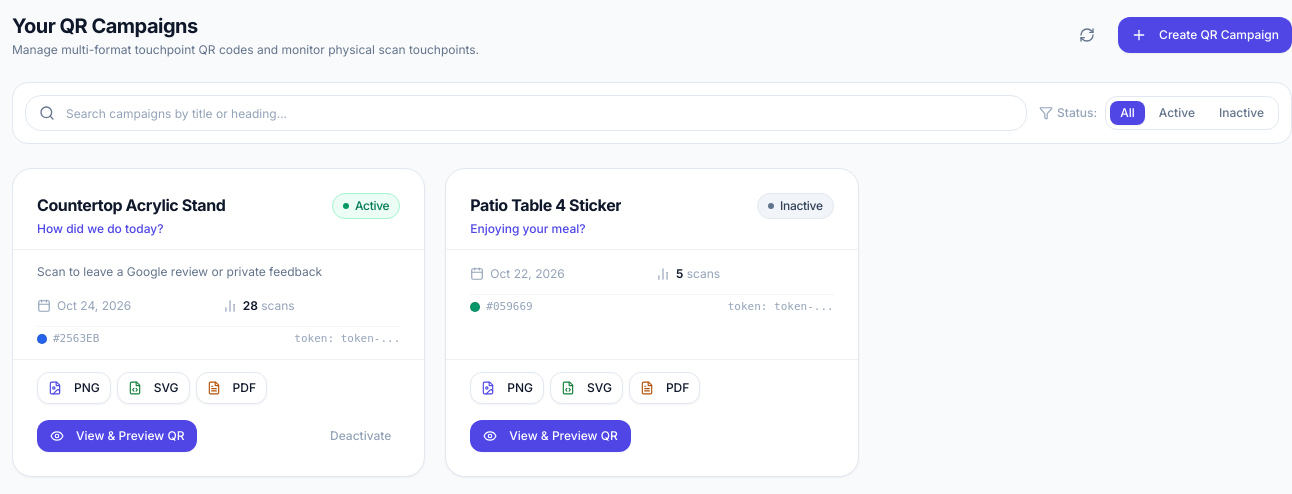
Test: CampaignList Component › should filter campaigns by search query
Expected: the heading "Countertop Acrylic Stand" is shown, x1=37 y1=193 x2=226 y2=217
Type "Patio" into the search field labelled "Search campaigns by title or heading..." at (526, 113), box x1=25 y1=95 x2=1027 y2=131
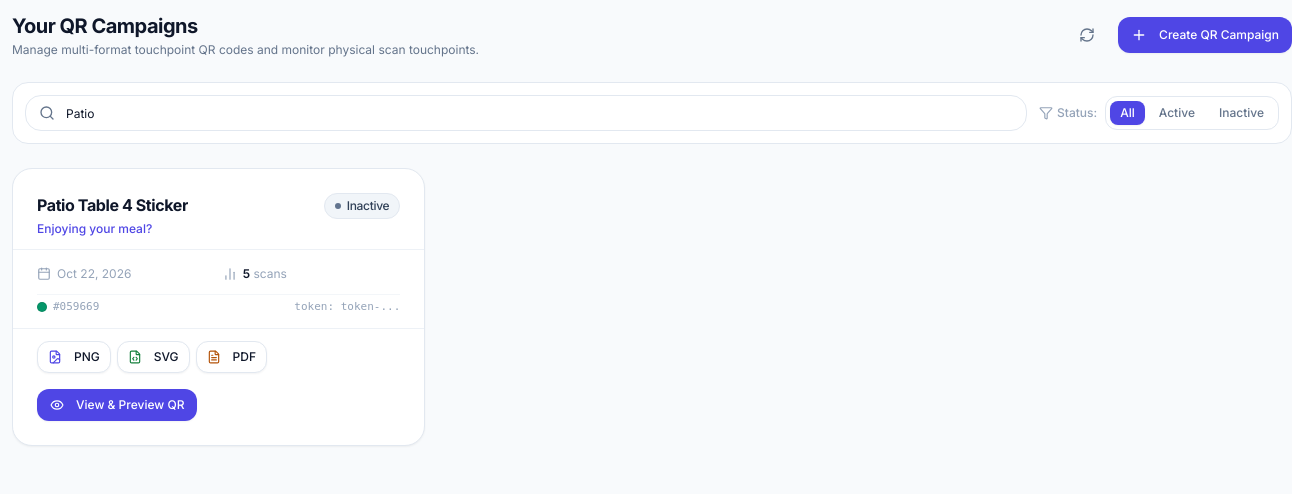
Expected: the heading "Patio Table 4 Sticker" is shown, x1=37 y1=193 x2=188 y2=217
Expected: the heading "Countertop Acrylic Stand" is gone
